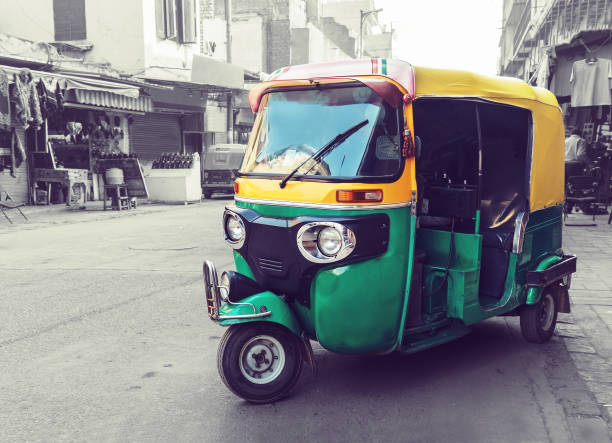threewheel: (202, 59, 577, 406)
